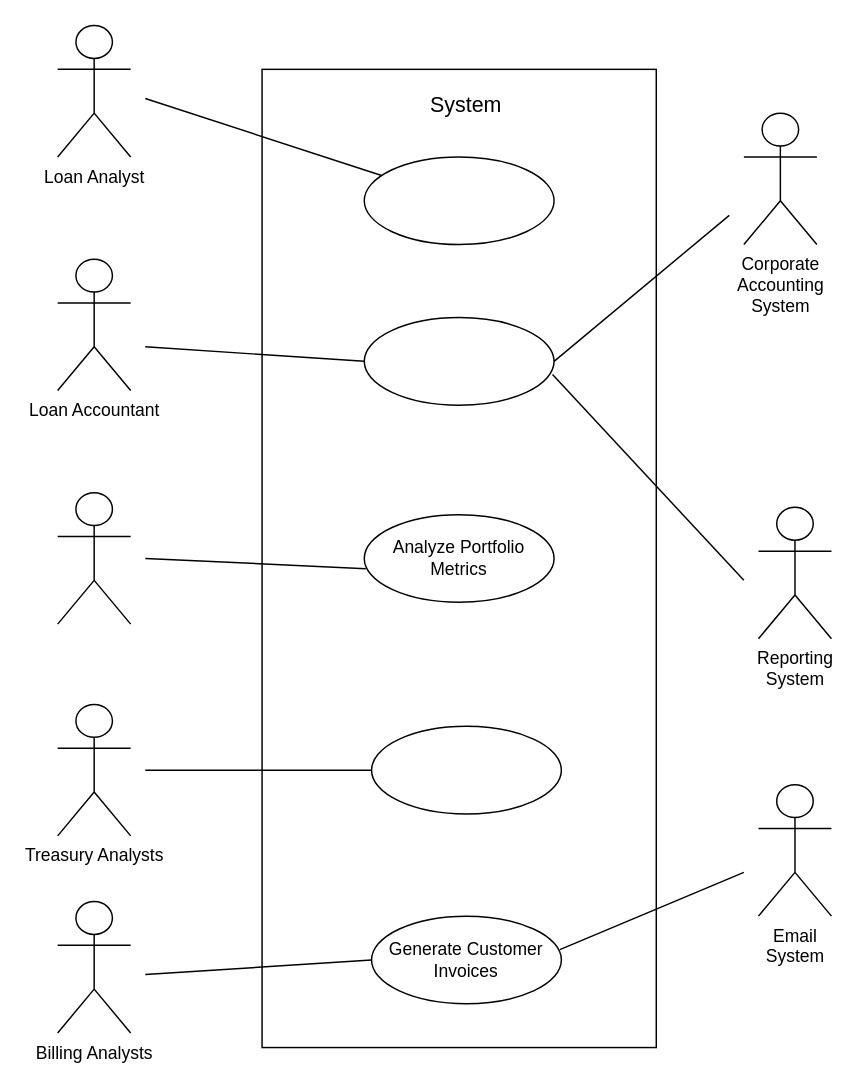
The diagram is 858 pixels wide and 1089 high, and some of its shapes have lost their labels. Here are the shapes that lost their labels. From the top down, the box of each, then its label:
(363, 155, 554, 245): Enter Loan Detals
(363, 316, 554, 405): Perform Accounting Procedures
(56, 491, 131, 624): Credit Officers
(370, 725, 561, 814): Generate Cash Flow Data
